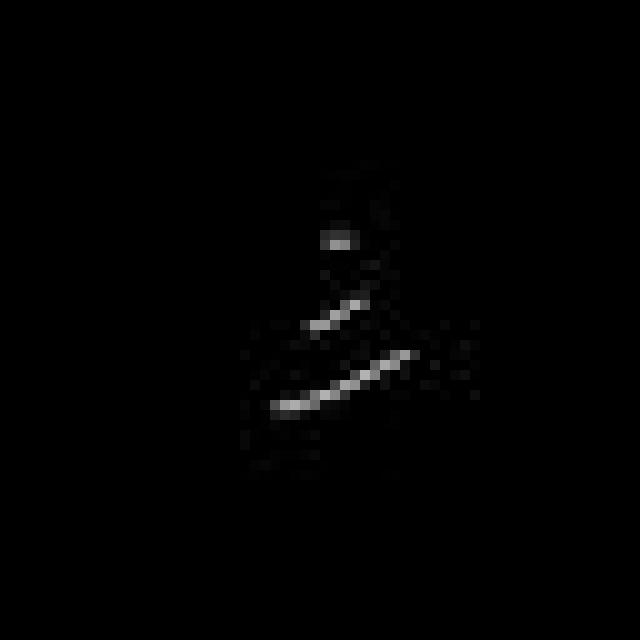3 -three-: (263, 218, 423, 438)
